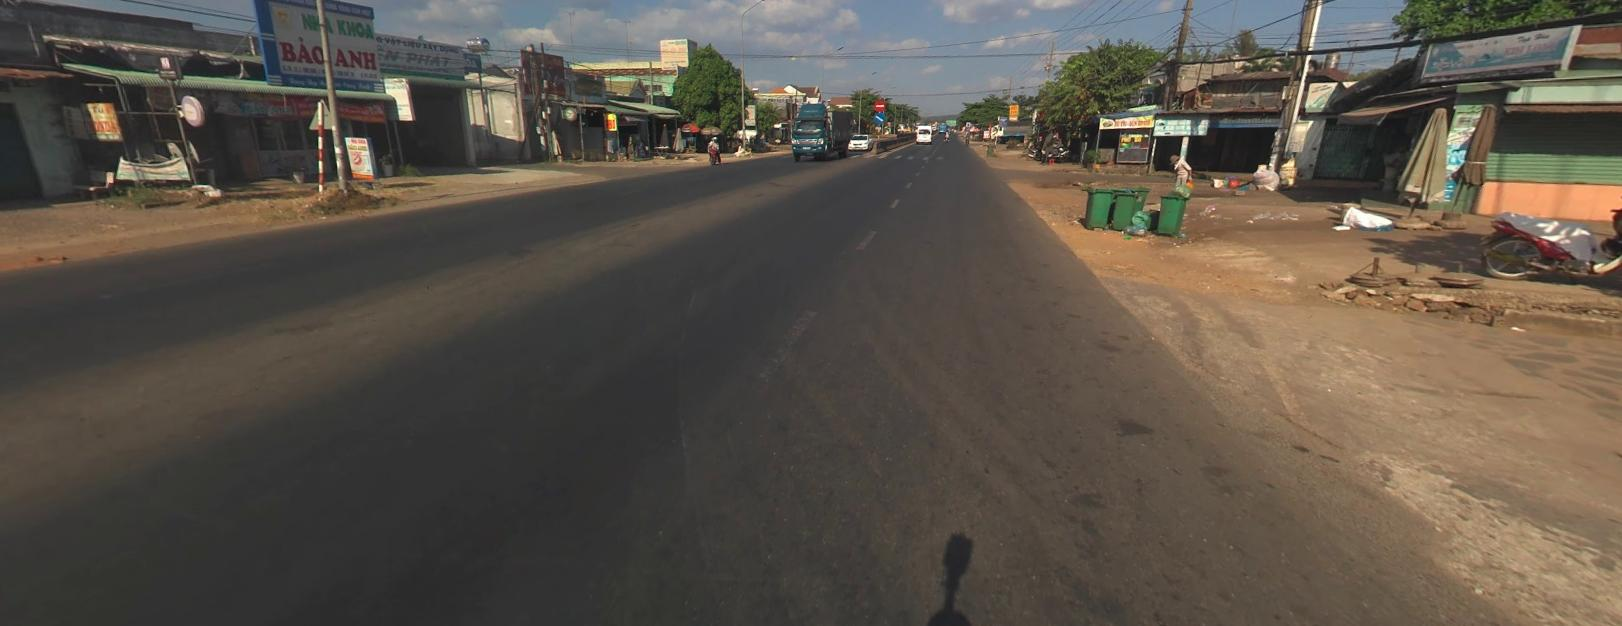Cam nguoc chieu: (874, 99, 884, 110)
Hieu lenh: (874, 112, 884, 123), (874, 112, 885, 122)
